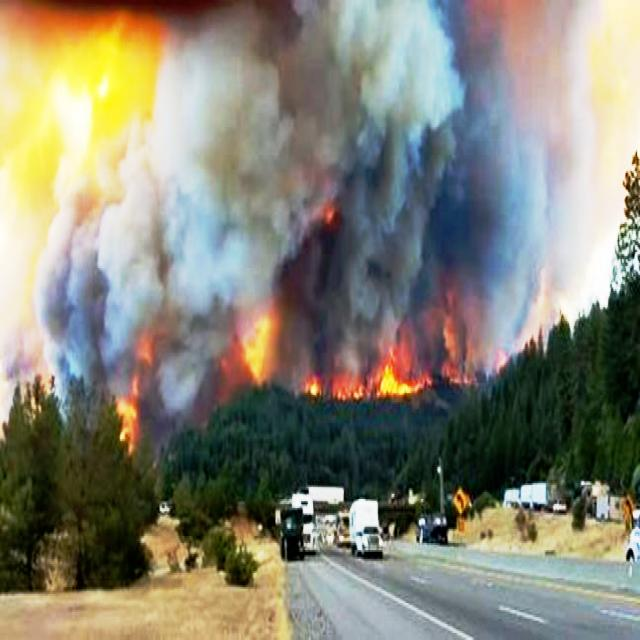api: (374, 350, 431, 400), (302, 368, 371, 401)
asap: (30, 1, 640, 459)
